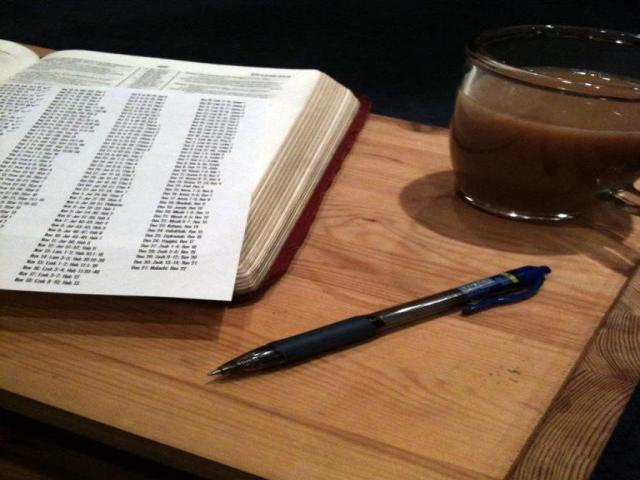PEN: (199, 252, 565, 391)
